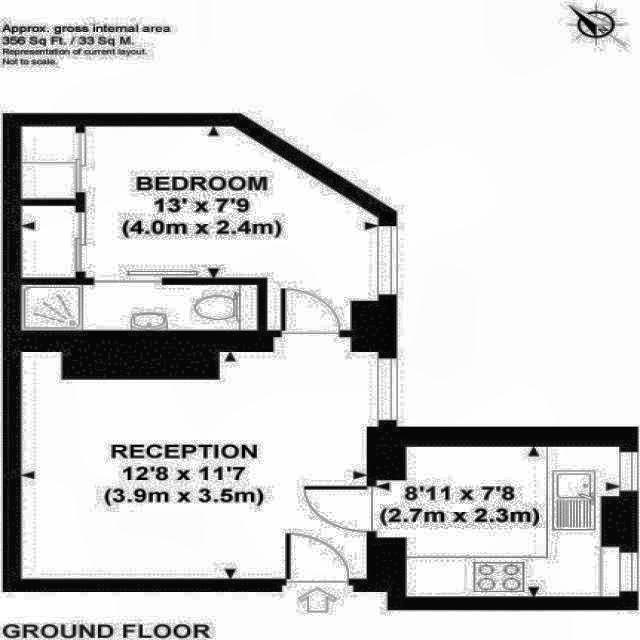room: (19, 352, 378, 579), (20, 126, 378, 330), (406, 447, 619, 597), (22, 284, 257, 330)
